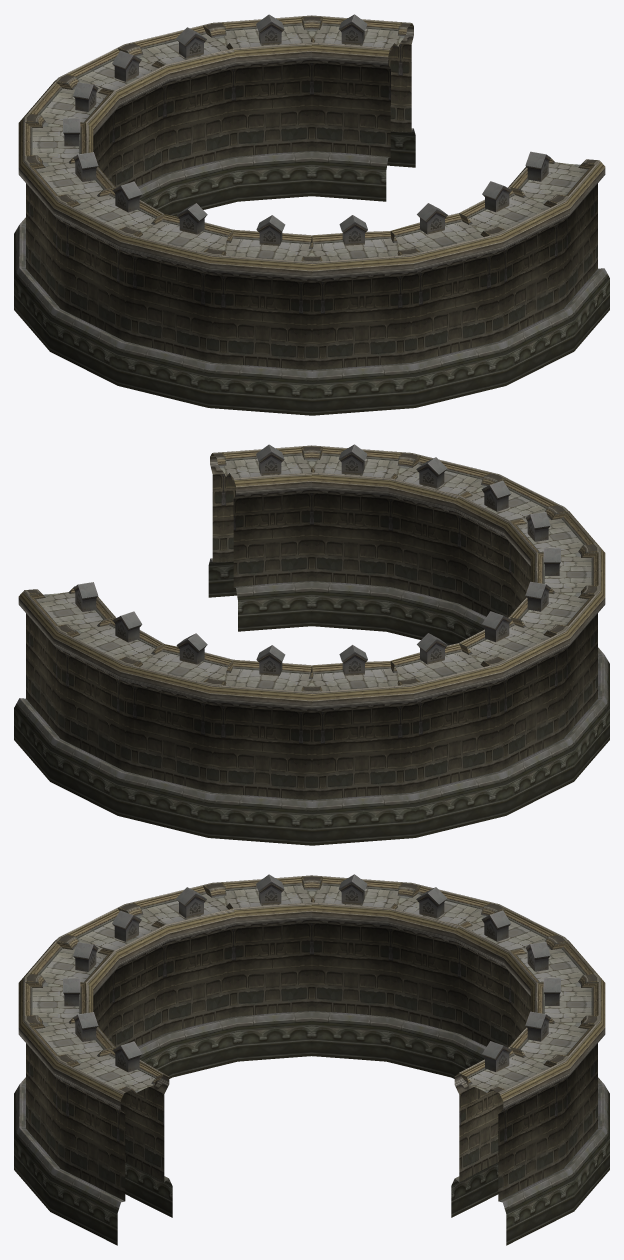
File: new_sh_bridgeout_wall_01.FBX
3 renders of one model, top to bottom at view 1: azimuth 30°, elevation 25°; view 2: azimuth 150°, elevation 25°; view 3: azimuth 270°, elevation 25°, orthographic.
Visible parts, largest first — view 1: new_sh_bridgeout_wall_01; view 2: new_sh_bridgeout_wall_01; view 3: new_sh_bridgeout_wall_01.
Part boxes in pixels (<box>): new_sh_bridgeout_wall_01: <box>14,14,609,415</box>; new_sh_bridgeout_wall_01: <box>14,444,609,845</box>; new_sh_bridgeout_wall_01: <box>14,874,609,1245</box>.
Bounding box in the file's own units: 2346 × 822 × 2616.
1 material, 1 textured.
